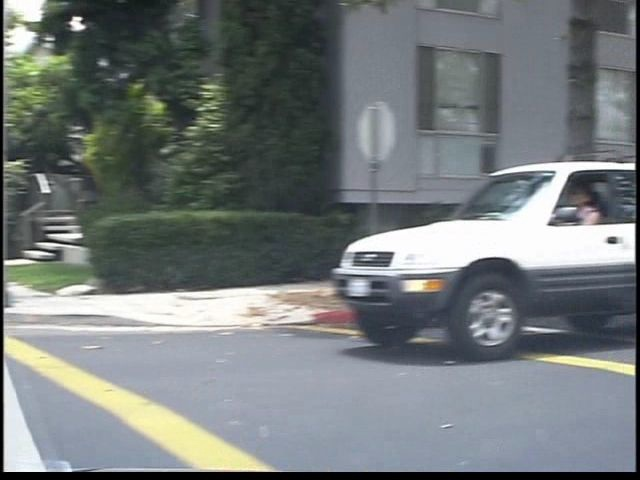person: (573, 174, 622, 340)
